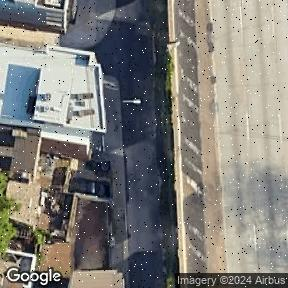vegetation: (0, 172, 18, 255), (32, 229, 46, 245)
